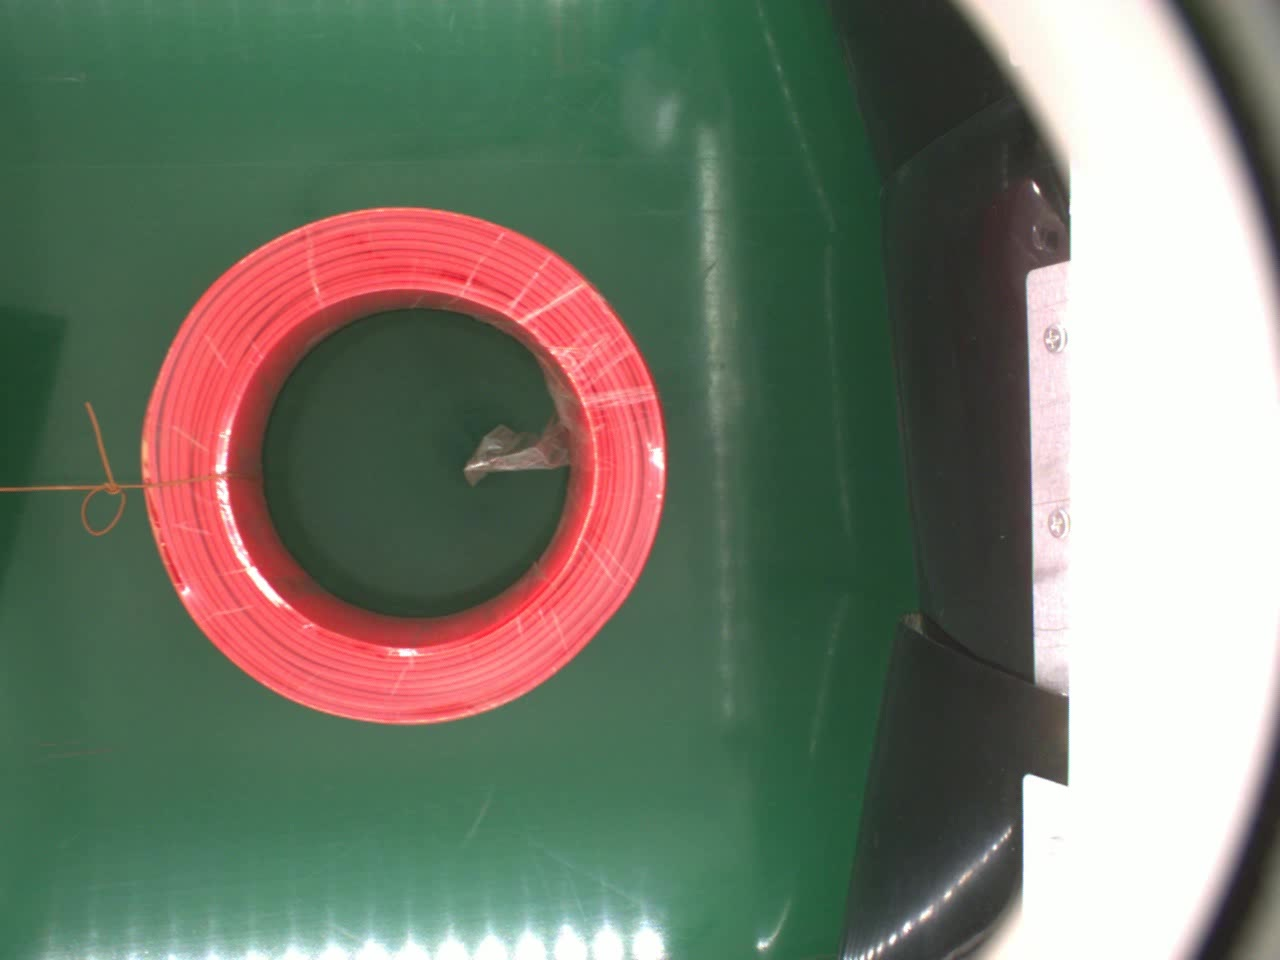red: (139, 206, 666, 738)
